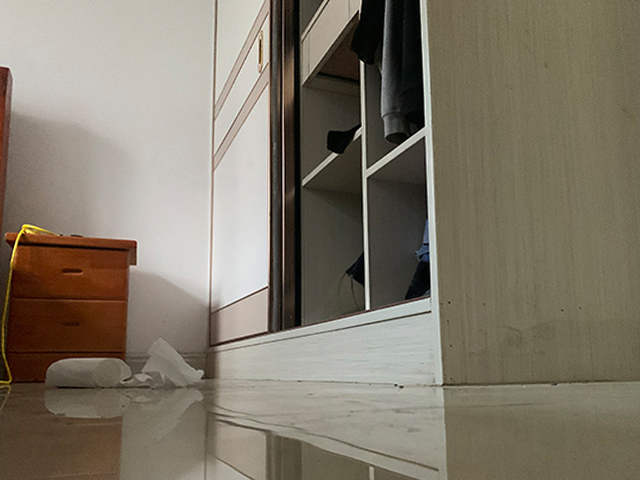cabinet: (205, 1, 640, 386), (4, 230, 140, 383)
wire: (1, 221, 51, 386)
